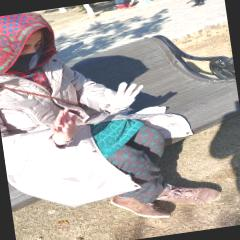gloved: (97, 79, 147, 112)
not-gloved: (46, 108, 81, 148)
